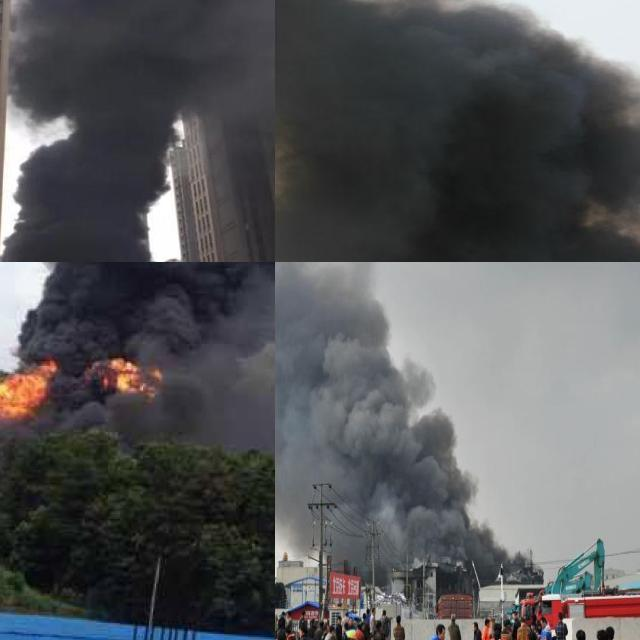fire: (0, 356, 54, 414), (95, 354, 162, 392)
smoke: (275, 0, 640, 262), (275, 262, 515, 579), (0, 0, 275, 262), (0, 262, 275, 443)
